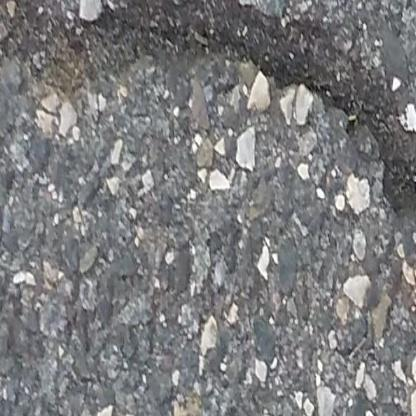Cracks: (0, 0, 416, 223)
